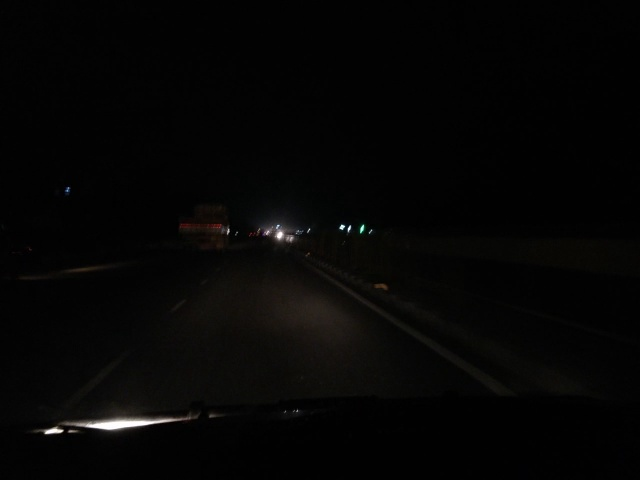truck: (182, 203, 231, 252)
